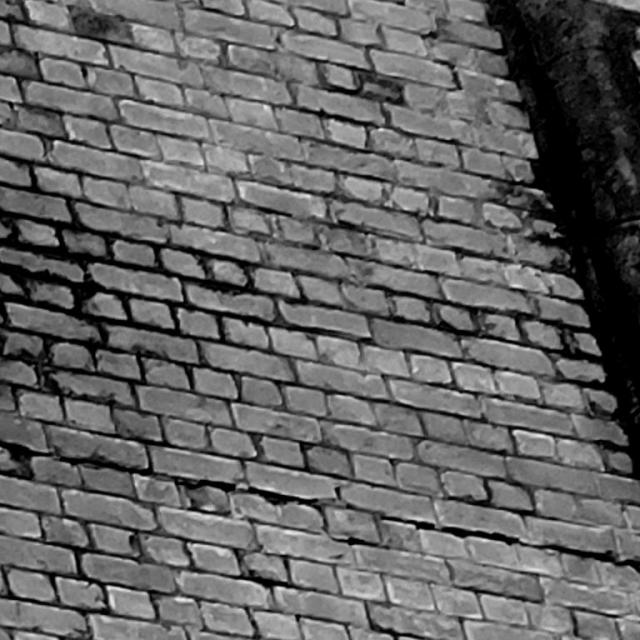crack: (1, 441, 640, 571)
